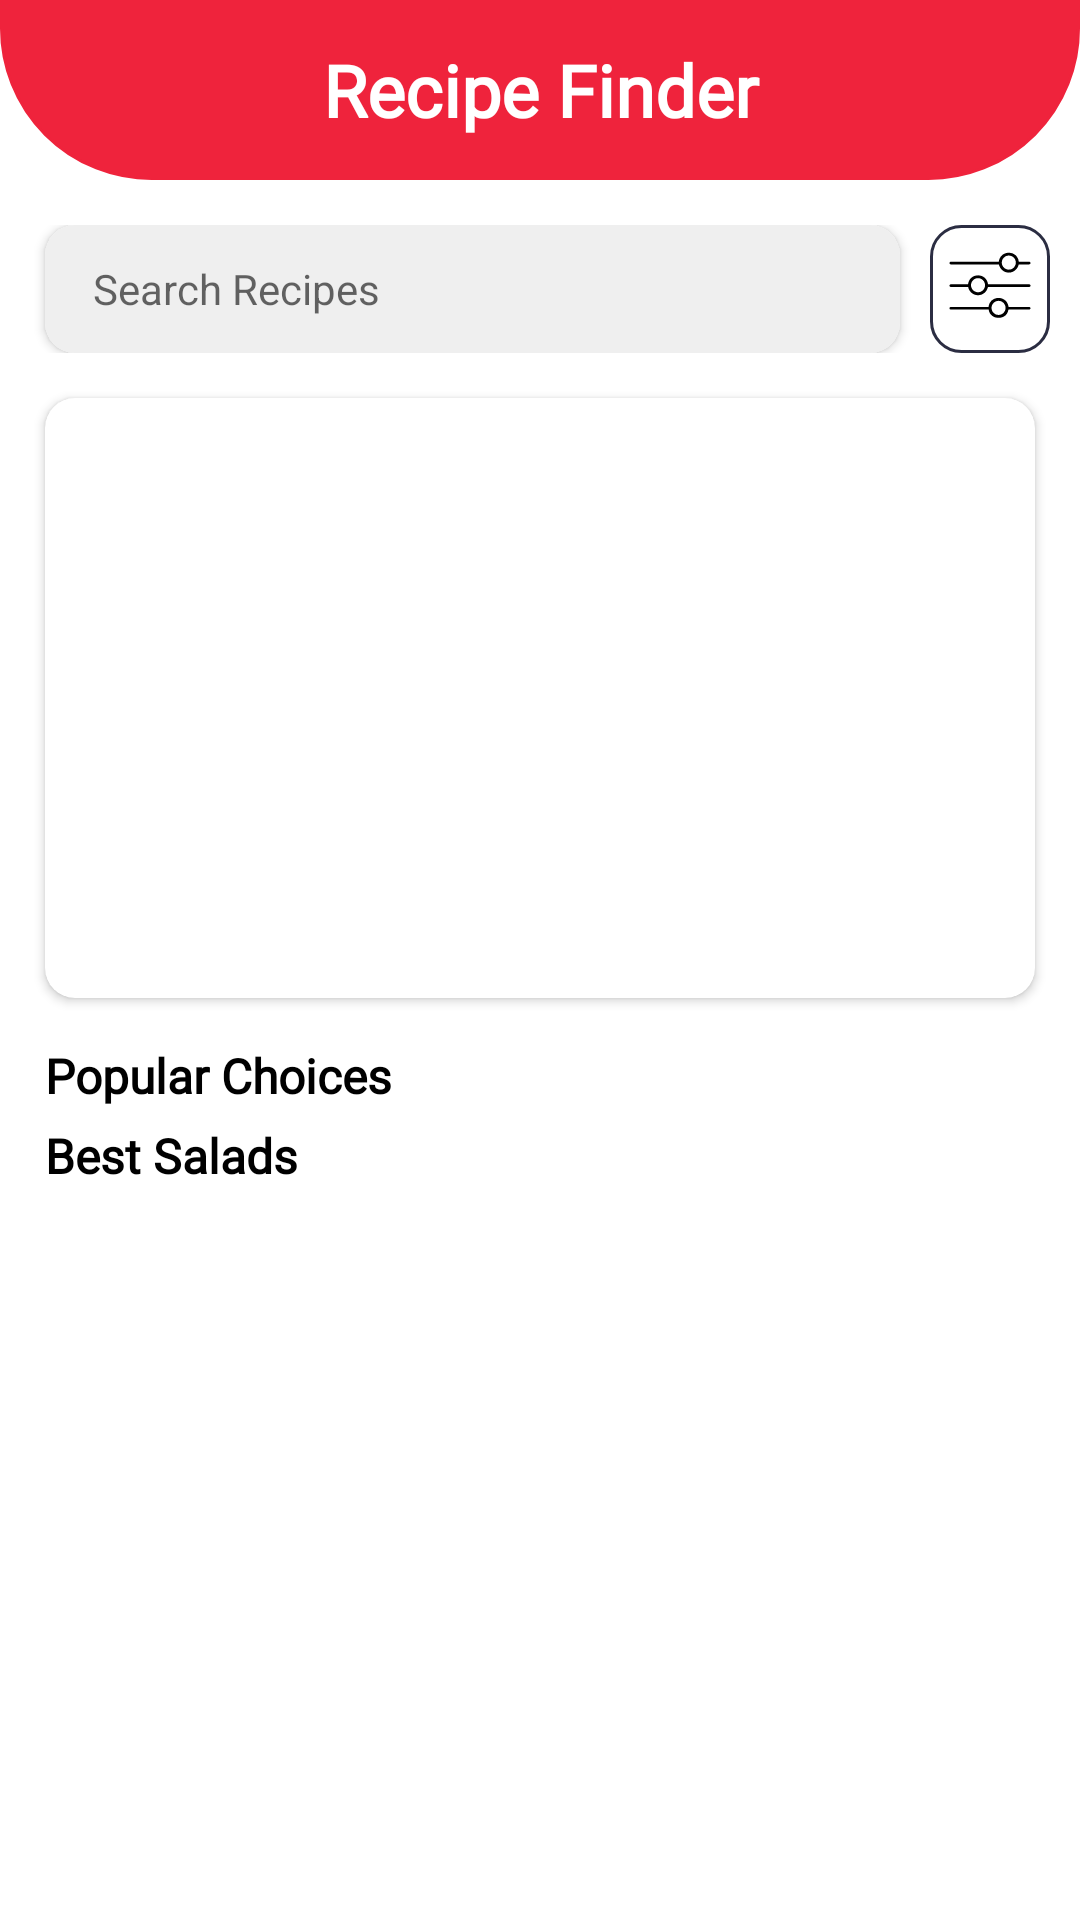

Screen size 1080*1920. Icon name, then its box in pixels as (x1, y1, x2, y2):
noun filter: (930, 225, 1050, 353)
